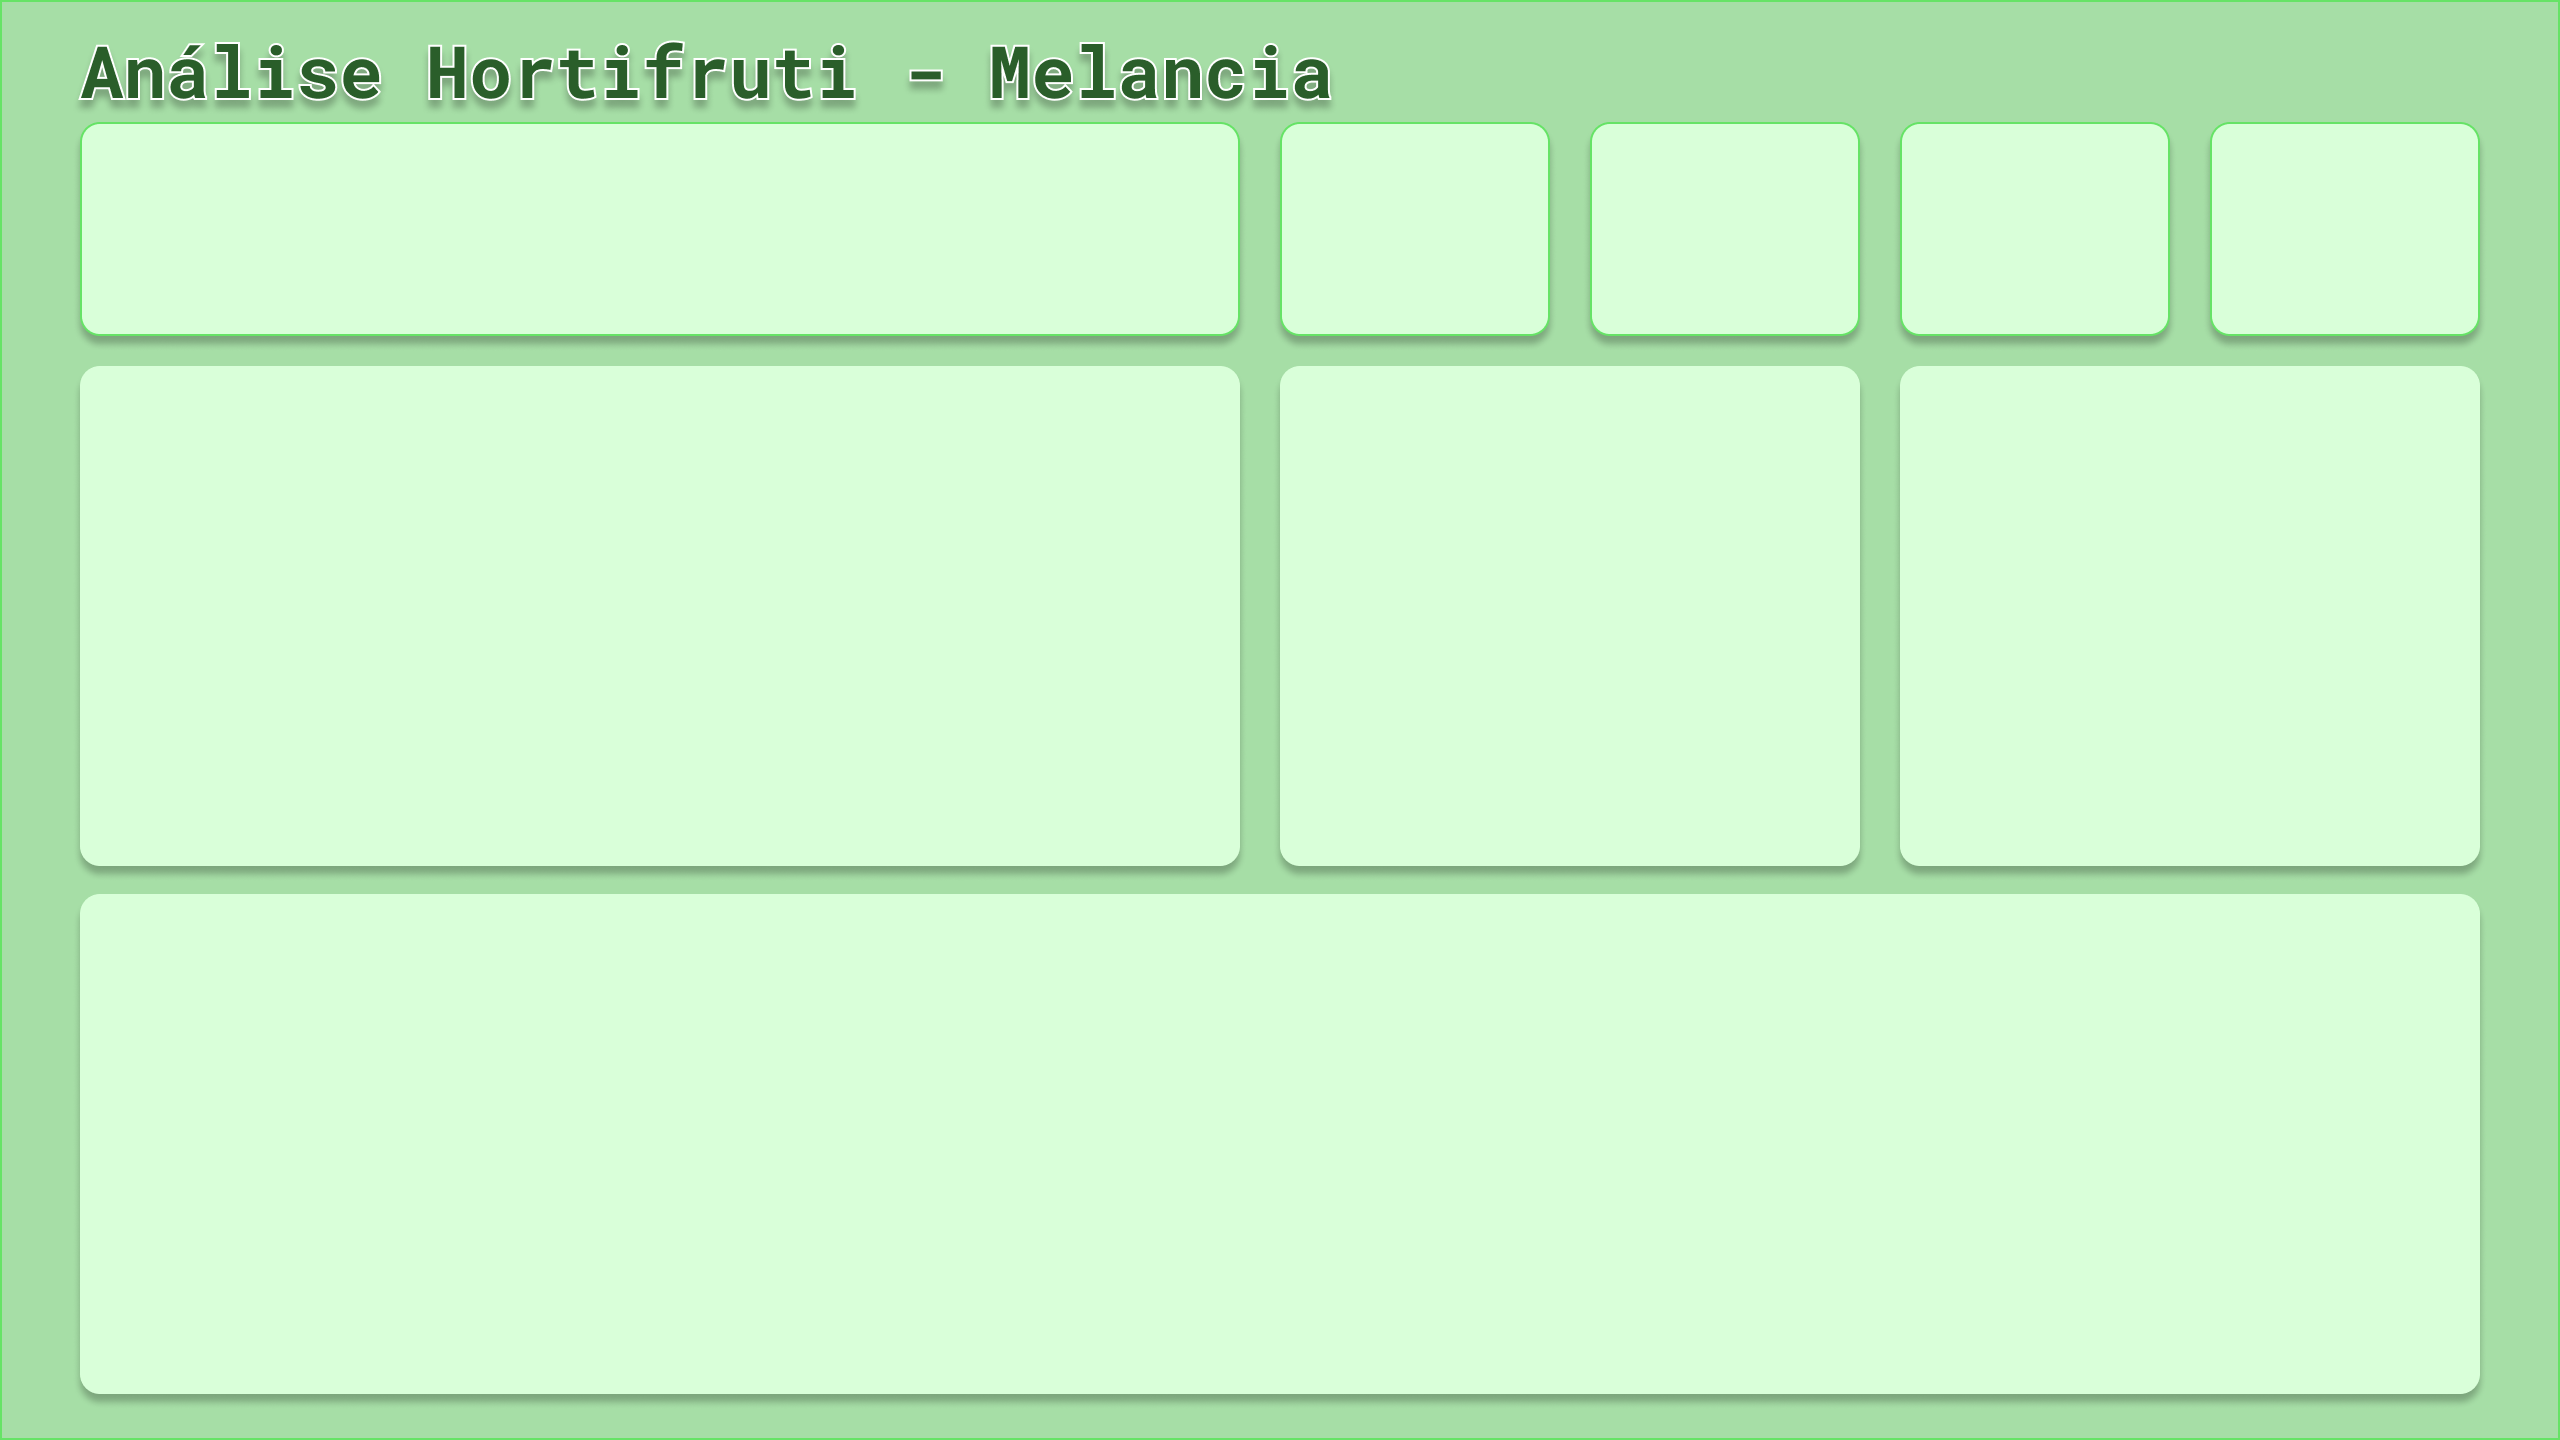

Layout of this report page (visuals, bound fields, positions):
{"tool":"powerbi","page":{"name":"Página 1","canvas":[1280,720],"ordinal":0},"visuals":[{"type":"slicer","fields":{"Values":["Banana.Ano"]},"box":[46.6,186.5,567.6,241.3],"z":0},{"type":"slicer","fields":{"Values":["Sheet1.Unidade"]},"box":[340,67.2,274.2,93.2],"z":1000},{"type":"slicer","fields":{"Values":["Sheet1.Produto"]},"box":[46.6,67.2,283.8,93.2],"z":2000},{"type":"lineChart","fields":{"Category":["Sheet1.Data.Variation.Hierarquia de datas.Mês","Sheet1.Data.Variation.Hierarquia de datas.Dia"],"Y":["Avg(Banana.Preço)"],"Series":["Banana.Ano"]},"box":[47.1,457.1,1185.7,230],"z":3000},{"type":"clusteredColumnChart","fields":{"Category":["Banana.MesExtenso"],"Y":["Avg(Banana.Preço)"]},"box":[645.8,186.5,274.2,241.3],"z":4000},{"type":"card","fields":{"Values":["Avg(Sheet1.Preço)"]},"box":[638.6,60,135.7,108.6],"z":5000},{"type":"card","fields":{"Values":["Median(Sheet1.Preço)"]},"box":[794.3,60,135.7,108.6],"z":6000},{"type":"card","fields":{"Values":["Max(Sheet1.Preço)"]},"box":[951.4,60,135.7,108.6],"z":7000},{"type":"card","fields":{"Values":["Min(Sheet1.Preço)"]},"box":[1105.7,60,135.7,108.6],"z":8000},{"type":"textbox","box":[640,58.6,135.7,55.7],"z":9000},{"type":"textbox","box":[794.3,58.6,135.7,45.7],"z":10000},{"type":"textbox","box":[951.4,58.6,135.7,45.7],"z":11000},{"type":"textbox","box":[1105.7,58.6,135.7,45.7],"z":12000},{"type":"clusteredColumnChart","fields":{"Y":["Avg(Banana.Preço)","Max(Banana.Preço)1","Min(Banana.Preço)2"],"Category":["Banana.Ano"]},"box":[961.4,187.1,272.9,240],"z":14000}]}

Visuals, with their boxes in screenshot pixels (x1, y1, x2, y2), scaled from the page's 1280x720 canvas onto the 2560x1440 screenshot:
slicer - Banana.Ano: 93/373/1228/856
slicer - Sheet1.Unidade: 680/134/1228/321
slicer - Sheet1.Produto: 93/134/661/321
lineChart - Sheet1.Data.Variation.Hierarquia de datas.Mês x Sheet1.Data.Variation.Hierarquia de datas.Dia: 94/914/2466/1374
clusteredColumnChart - Banana.MesExtenso x Avg(Banana.Preço): 1292/373/1840/856
card - Avg(Sheet1.Preço): 1277/120/1549/337
card - Median(Sheet1.Preço): 1589/120/1860/337
card - Max(Sheet1.Preço): 1903/120/2174/337
card - Min(Sheet1.Preço): 2211/120/2483/337
textbox: 1280/117/1551/229
textbox: 1589/117/1860/209
textbox: 1903/117/2174/209
textbox: 2211/117/2483/209
clusteredColumnChart - Avg(Banana.Preço) x Max(Banana.Preço)1: 1923/374/2469/854
